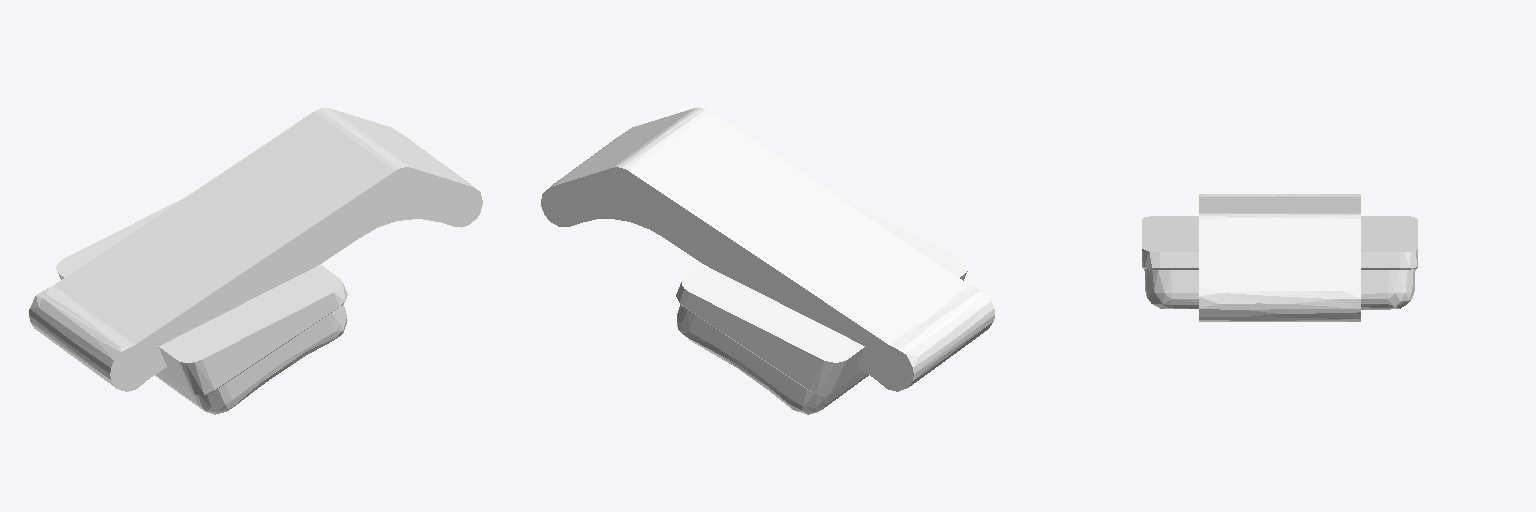
File: l_float.obj
3 views of the same model, side by side, from view 1: azimuth 30°, elevation 25°; view 2: azimuth 150°, elevation 25°; view 3: azimuth 270°, elevation 25° (orthographic).
Size of the model in its own units: 0.4842 by 0.2289 by 0.31.